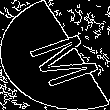M_NE: (11, 23, 99, 87)
